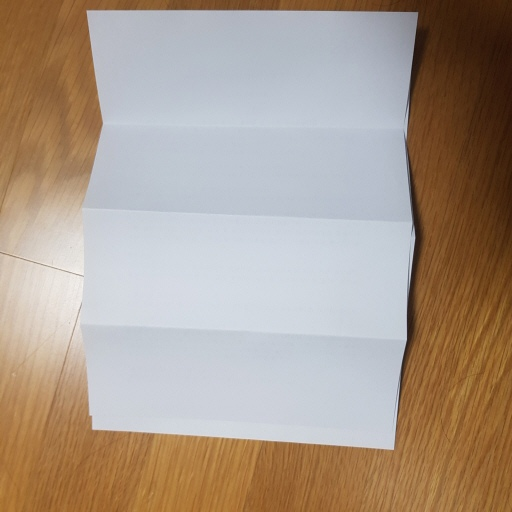Paper_3: (72, 5, 435, 448)
